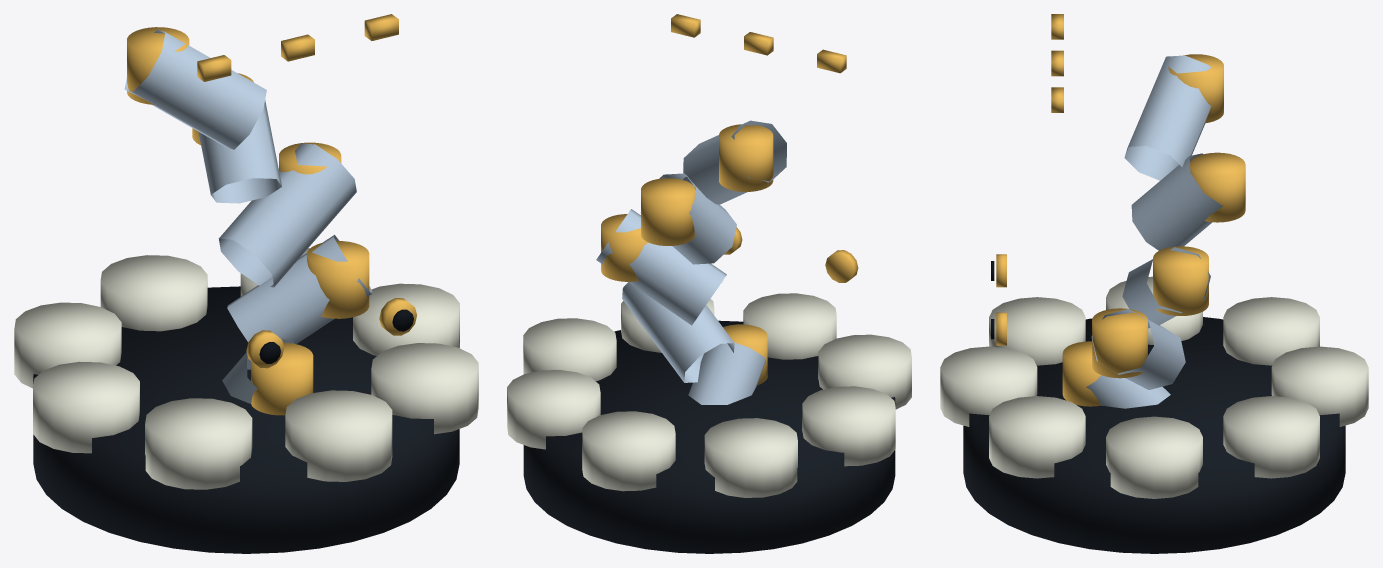
File: 73_L93_CleanSampleTransferArm.fbx
3 views of the same model, side by side, from view 1: azimuth 30°, elevation 25°; view 2: azimuth 150°, elevation 25°; view 3: azimuth 270°, elevation 25° (orthographic). The views are drawn at different scales.
Visible parts, largest first — view 1: L92_CleanSampleTransferArm_Part_0003, L92_CleanSampleTransferArm_Part_0000, L92_CleanSampleTransferArm_Part_0001, L92_CleanSampleTransferArm_Part_0002, L92_CleanSampleTransferArm_Part_0004, L92_CleanSampleTransferArm_Part_0005, L92_CleanSampleTransferArm_Part_0007; view 2: L92_CleanSampleTransferArm_Part_0003, L92_CleanSampleTransferArm_Part_0000, L92_CleanSampleTransferArm_Part_0001, L92_CleanSampleTransferArm_Part_0002, L92_CleanSampleTransferArm_Part_0004, L92_CleanSampleTransferArm_Part_0005; view 3: L92_CleanSampleTransferArm_Part_0003, L92_CleanSampleTransferArm_Part_0000, L92_CleanSampleTransferArm_Part_0001, L92_CleanSampleTransferArm_Part_0002, L92_CleanSampleTransferArm_Part_0004.
Boxes of the visible parts, left/top/right/bottom form: L92_CleanSampleTransferArm_Part_0003: left=14, top=248, right=478, bottom=489; L92_CleanSampleTransferArm_Part_0000: left=33, top=286, right=459, bottom=553; L92_CleanSampleTransferArm_Part_0001: left=124, top=29, right=372, bottom=403; L92_CleanSampleTransferArm_Part_0002: left=127, top=27, right=369, bottom=415; L92_CleanSampleTransferArm_Part_0004: left=197, top=14, right=398, bottom=81; L92_CleanSampleTransferArm_Part_0005: left=246, top=330, right=284, bottom=368; L92_CleanSampleTransferArm_Part_0007: left=379, top=298, right=416, bottom=335; L92_CleanSampleTransferArm_Part_0003: left=507, top=293, right=911, bottom=497; L92_CleanSampleTransferArm_Part_0000: left=523, top=320, right=895, bottom=553; L92_CleanSampleTransferArm_Part_0001: left=596, top=120, right=786, bottom=404; L92_CleanSampleTransferArm_Part_0002: left=601, top=124, right=773, bottom=384; L92_CleanSampleTransferArm_Part_0004: left=671, top=14, right=846, bottom=73; L92_CleanSampleTransferArm_Part_0005: left=825, top=250, right=858, bottom=282; L92_CleanSampleTransferArm_Part_0003: left=940, top=276, right=1368, bottom=498; L92_CleanSampleTransferArm_Part_0000: left=963, top=317, right=1345, bottom=553; L92_CleanSampleTransferArm_Part_0001: left=1086, top=55, right=1223, bottom=408; L92_CleanSampleTransferArm_Part_0002: left=1062, top=54, right=1245, bottom=406; L92_CleanSampleTransferArm_Part_0004: left=1051, top=14, right=1063, bottom=112.
Size of the model in its own units: 168 by 180 by 168.
